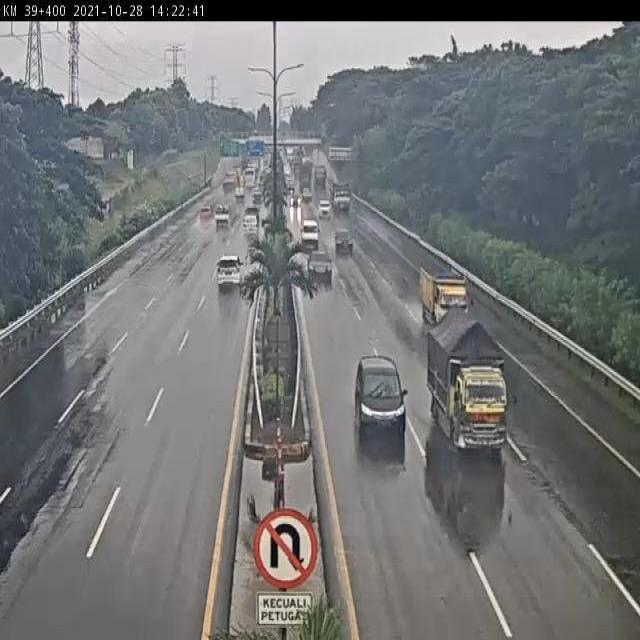truck-s-: (427, 310, 513, 458), (420, 263, 474, 328)
